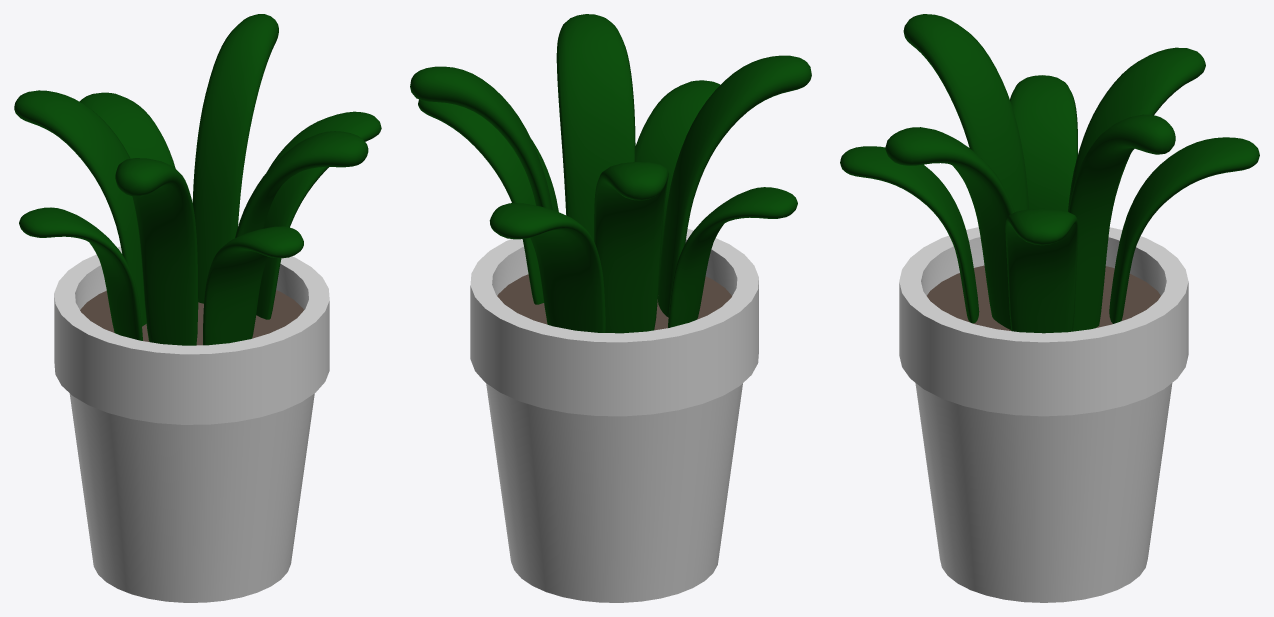
Rendered from Plante3_2.fbx.
3 views of the same model, side by side, from view 1: azimuth 30°, elevation 25°; view 2: azimuth 150°, elevation 25°; view 3: azimuth 270°, elevation 25° (orthographic). The views are drawn at different scales.
Parts seen in each view (by area): view 1: pCylinder728, pCube1923, pCube1927, pCube1921, pCube1926, pCube1928, pCube1925, pCube1922, pCube1924, pCylinder729; view 2: pCylinder728, pCube1922, pCube1921, pCube1927, pCube1924, pCube1928, pCube1923, pCube1925, pCube1926, pCylinder729; view 3: pCylinder728, pCube1927, pCube1923, pCube1925, pCube1922, pCube1928, pCube1924, pCube1921, pCube1926, pCylinder729.
Part boxes in pixels (left/top/right/bottom): pCylinder728: left=54, top=246, right=329, bottom=602; pCube1923: left=192, top=14, right=278, bottom=303; pCube1927: left=115, top=158, right=198, bottom=345; pCube1921: left=14, top=90, right=146, bottom=326; pCube1926: left=203, top=226, right=303, bottom=345; pCube1928: left=19, top=207, right=142, bottom=340; pCube1925: left=256, top=111, right=381, bottom=319; pCube1922: left=235, top=131, right=368, bottom=237; pCube1924: left=79, top=92, right=175, bottom=168; pCylinder729: left=80, top=290, right=303, bottom=345; pCylinder728: left=470, top=229, right=758, bottom=602; pCube1922: left=556, top=14, right=635, bottom=240; pCube1921: left=594, top=162, right=668, bottom=333; pCube1927: left=658, top=55, right=811, bottom=317; pCube1924: left=489, top=203, right=605, bottom=332; pCube1928: left=668, top=187, right=797, bottom=327; pCube1923: left=410, top=66, right=552, bottom=209; pCube1925: left=418, top=99, right=558, bottom=304; pCube1926: left=635, top=80, right=720, bottom=279; pCylinder729: left=497, top=274, right=731, bottom=330; pCylinder728: left=899, top=227, right=1188, bottom=602; pCube1927: left=903, top=14, right=1028, bottom=211; pCube1923: left=1068, top=114, right=1175, bottom=331; pCube1925: left=1005, top=208, right=1078, bottom=333; pCube1922: left=885, top=127, right=1014, bottom=329; pCube1928: left=1010, top=75, right=1077, bottom=211; pCube1924: left=1109, top=137, right=1259, bottom=323; pCube1921: left=1068, top=47, right=1205, bottom=221; pCube1926: left=840, top=146, right=979, bottom=323; pCylinder729: left=927, top=265, right=1160, bottom=330.
Size of the model in its own units: 16.65 by 21.34 by 16.27.
